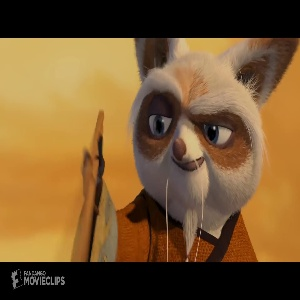shifu: (85, 38, 296, 259)
